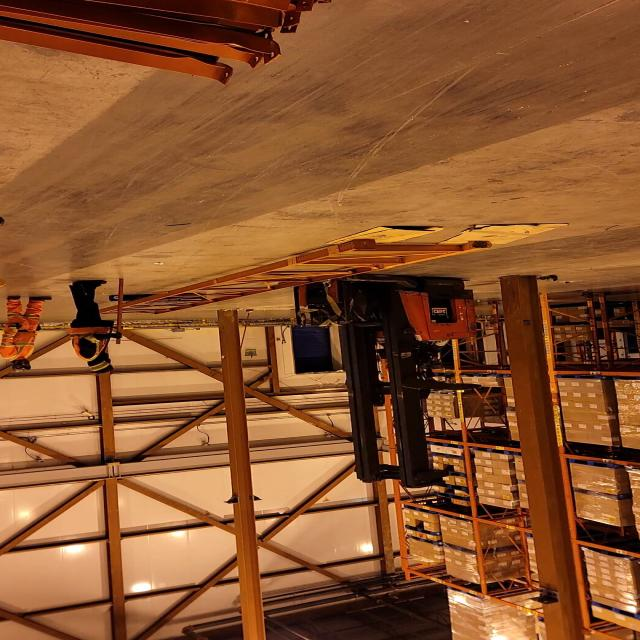forklift: (289, 275, 478, 482)
human: (62, 276, 130, 376), (0, 294, 56, 375), (373, 328, 462, 374)
objectofinterest: (93, 236, 494, 319), (430, 220, 581, 252), (316, 226, 452, 255), (101, 289, 158, 304)
